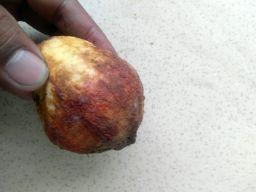guava: (31, 36, 148, 155)
